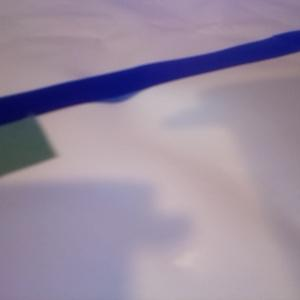bottom_right: (1, 95, 55, 176)
